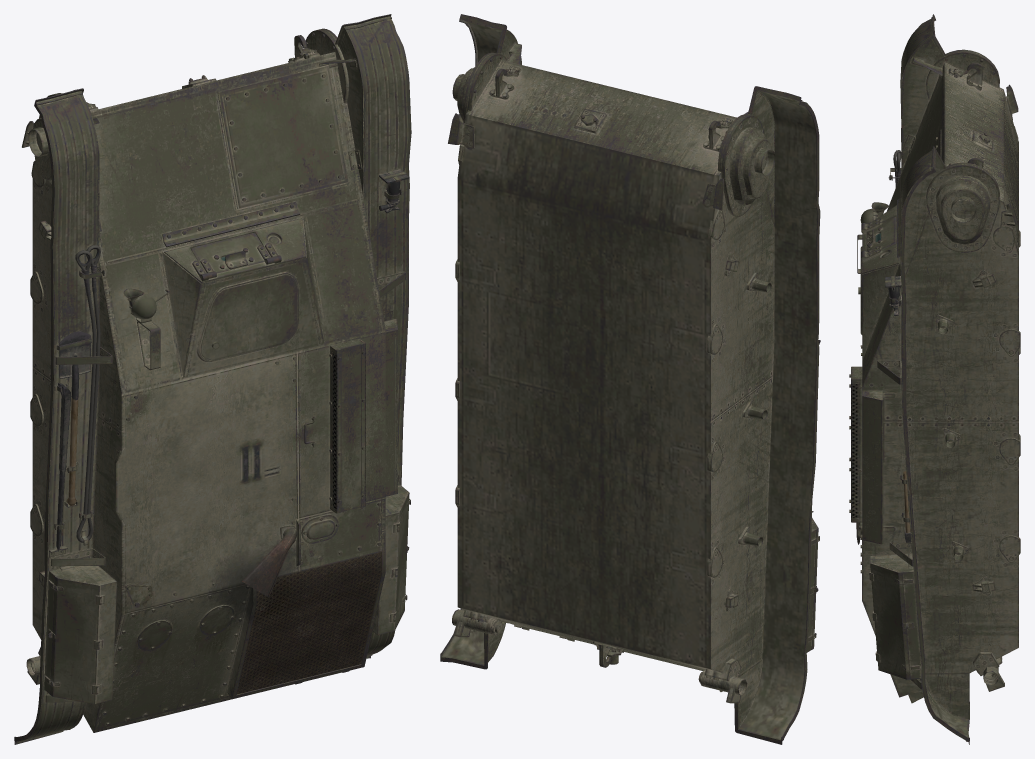
File: Hull.glb
The picture shows the model from 3 angles, left to right: view 1: azimuth 30°, elevation 25°; view 2: azimuth 150°, elevation 25°; view 3: azimuth 270°, elevation 25°; orthographic projection. The views are drawn at different scales.
Parts seen in each view (by area): view 1: set_0_group_0; view 2: set_0_group_0; view 3: set_0_group_0.
Part boxes in pixels (bbox=[...]): set_0_group_0: bbox=[14, 14, 411, 744]; set_0_group_0: bbox=[440, 14, 820, 744]; set_0_group_0: bbox=[849, 14, 1020, 744].
Size of the model in its own units: 2.36 by 4.13 by 1.11.
1 material, 1 textured.
